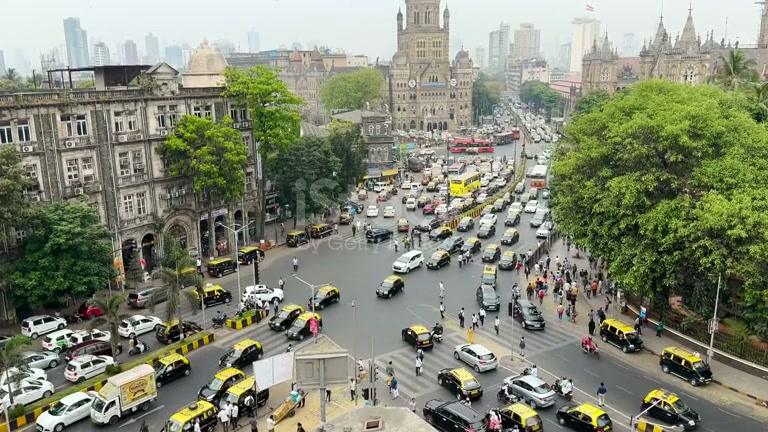bus: (448, 169, 481, 200)
car: (630, 389, 700, 431), (34, 391, 94, 432), (658, 345, 713, 387), (423, 398, 487, 432), (501, 373, 556, 409), (556, 401, 613, 432), (437, 366, 483, 401), (63, 354, 113, 384), (453, 342, 499, 373), (20, 315, 67, 338), (401, 323, 433, 350), (127, 287, 163, 310), (518, 303, 545, 331), (393, 250, 424, 274), (375, 275, 404, 299), (477, 285, 501, 312), (423, 247, 451, 270), (498, 251, 517, 271)
truck: (88, 362, 159, 426), (658, 345, 714, 388), (599, 317, 644, 353)
